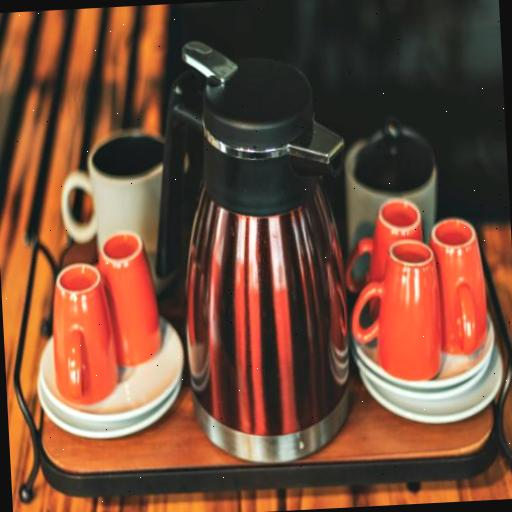cup: (348, 236, 444, 384), (342, 194, 428, 320), (50, 262, 120, 407), (98, 228, 164, 368), (428, 216, 490, 357)
